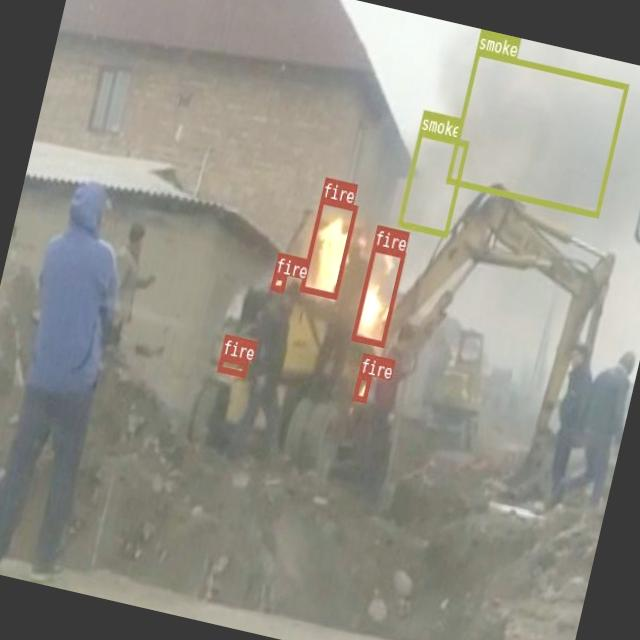fire: (298, 196, 357, 298), (350, 244, 404, 346), (216, 354, 247, 376), (352, 372, 371, 401), (269, 272, 285, 290)
smoke: (445, 47, 628, 217), (396, 128, 469, 236)
